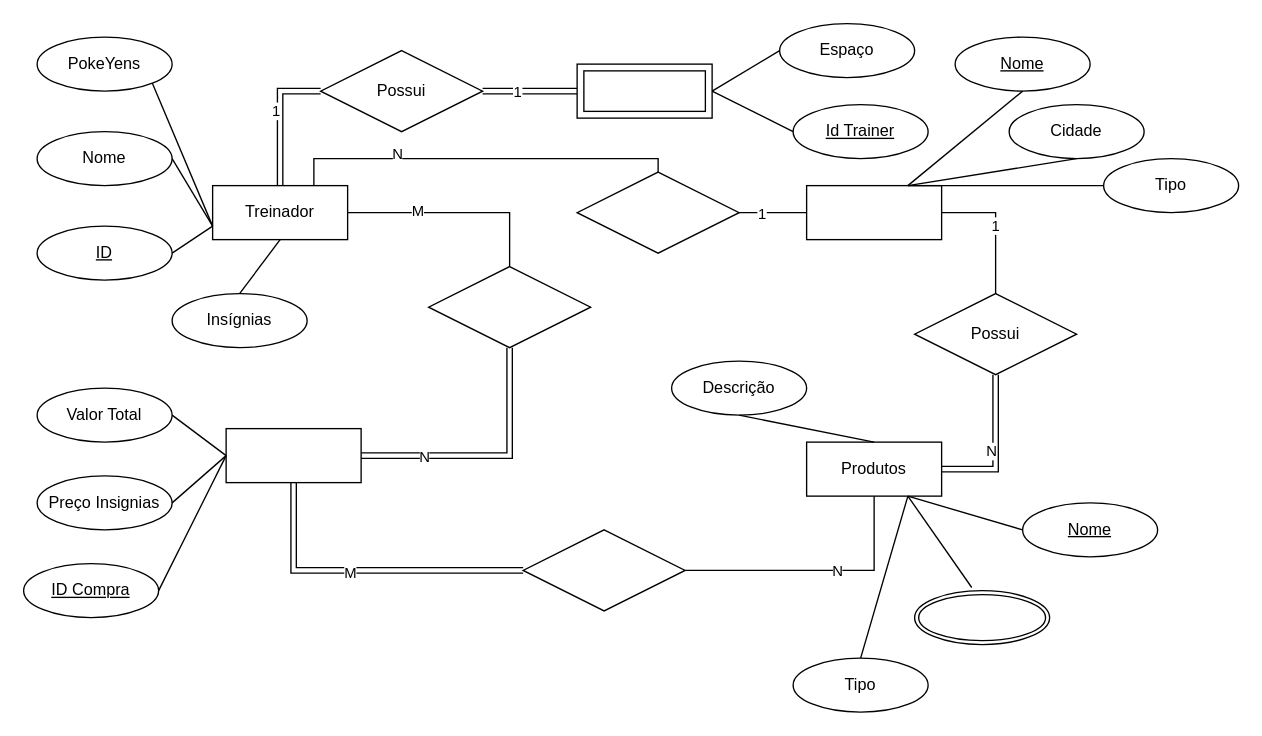
Some shapes in this 1262 by 736 pixel diagram are drawn without their labels. Here are the shapes that lost their labels. From the top down, the box of each, then its label:
(576, 63, 712, 118): Bolsa
(576, 171, 739, 253): Acessa
(805, 184, 942, 240): Loja
(427, 265, 591, 348): Realiza
(225, 427, 361, 483): Compra
(522, 529, 685, 611): Composta Por
(913, 589, 1050, 645): Preço
